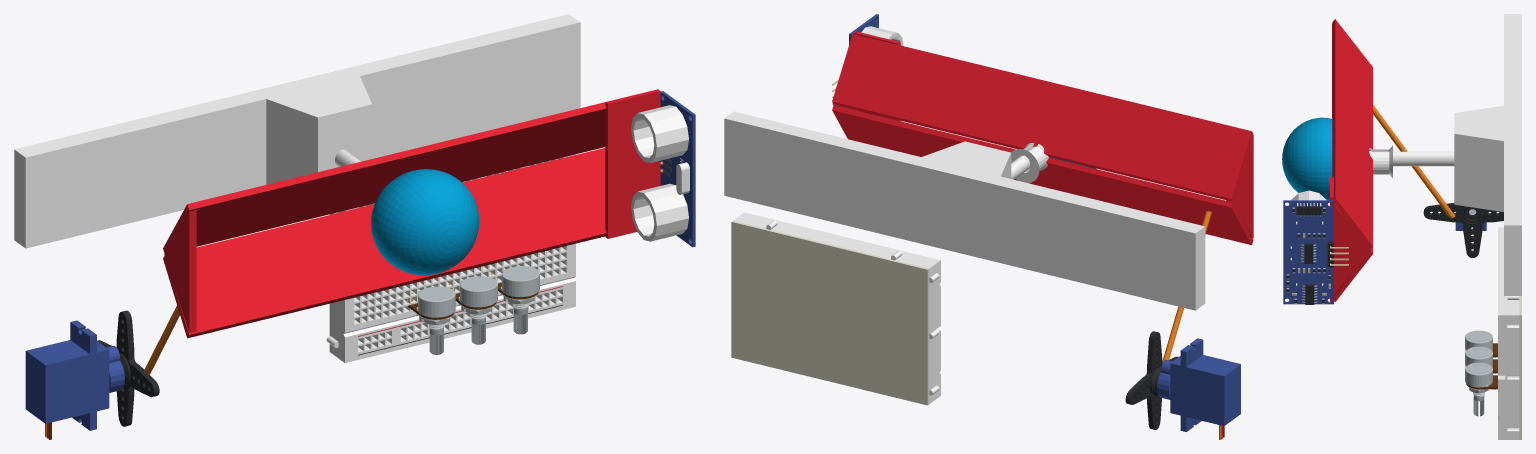
File: tinker.obj
The picture shows the model from 3 angles, left to right: view 1: azimuth 30°, elevation 25°; view 2: azimuth 150°, elevation 25°; view 3: azimuth 270°, elevation 25°; orthographic projection. The views are drawn at different scales.
Visible parts, largest first — view 1: group_0_16448250, group_0_15277357, group_0_3888547, group_0_40919, group_0_12568524, group_0_2829873, group_0_10988977; view 2: group_0_16448250, group_0_15277357, group_0_15263957, group_0_3888547, group_0_2829873, group_0_16089887; view 3: group_0_16448250, group_0_15277357, group_0_3888547, group_0_40919, group_0_2829873, group_0_12568524, group_0_16089887, group_0_15263957, group_0_6306067, group_0_10988977.
Part boxes in pixels (x1=…): group_0_16448250: x1=14, y1=14, x2=689, y2=362; group_0_15277357: x1=47, y1=89, x2=660, y2=438; group_0_3888547: x1=25, y1=91, x2=695, y2=430; group_0_40919: x1=371, y1=169, x2=479, y2=275; group_0_12568524: x1=411, y1=266, x2=539, y2=330; group_0_2829873: x1=97, y1=305, x2=562, y2=426; group_0_10988977: x1=423, y1=297, x2=533, y2=354; group_0_16448250: x1=724, y1=26, x2=1205, y2=403; group_0_15277357: x1=832, y1=31, x2=1253, y2=438; group_0_15263957: x1=731, y1=221, x2=929, y2=405; group_0_3888547: x1=849, y1=14, x2=1240, y2=431; group_0_2829873: x1=1125, y1=331, x2=1177, y2=429; group_0_16089887: x1=1162, y1=211, x2=1221, y2=439; group_0_16448250: x1=1290, y1=14, x2=1521, y2=439; group_0_15277357: x1=1330, y1=19, x2=1372, y2=302; group_0_3888547: x1=1283, y1=200, x2=1486, y2=304; group_0_40919: x1=1282, y1=117, x2=1332, y2=200; group_0_2829873: x1=1286, y1=203, x2=1503, y2=304; group_0_12568524: x1=1286, y1=207, x2=1495, y2=397; group_0_16089887: x1=1373, y1=105, x2=1455, y2=218; group_0_15263957: x1=1519, y1=296, x2=1521, y2=439; group_0_6306067: x1=1466, y1=343, x2=1497, y2=389; group_0_10988977: x1=1469, y1=388, x2=1488, y2=416.
Size of the model in its own units: 202 by 102 by 95.
